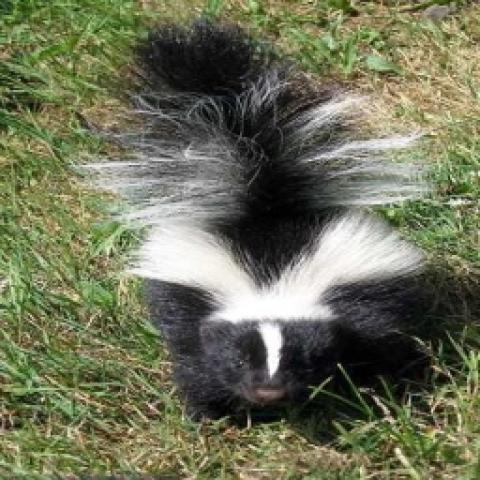small_animal: (75, 13, 441, 426)
